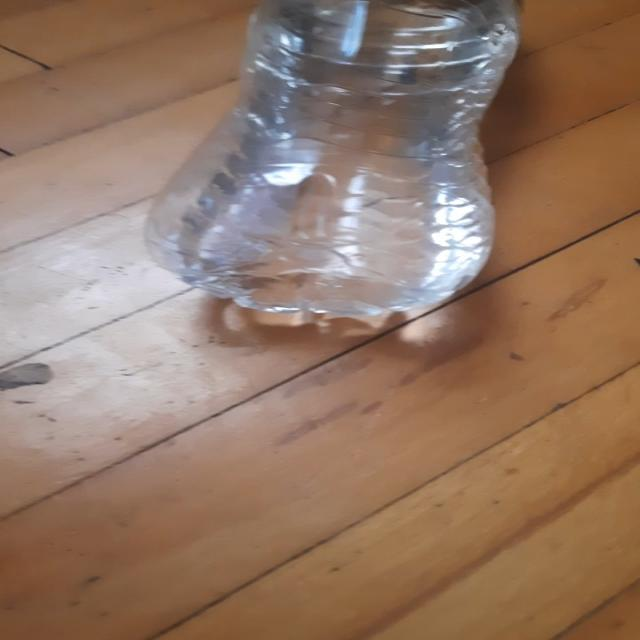Plastic: (144, 0, 523, 334)
